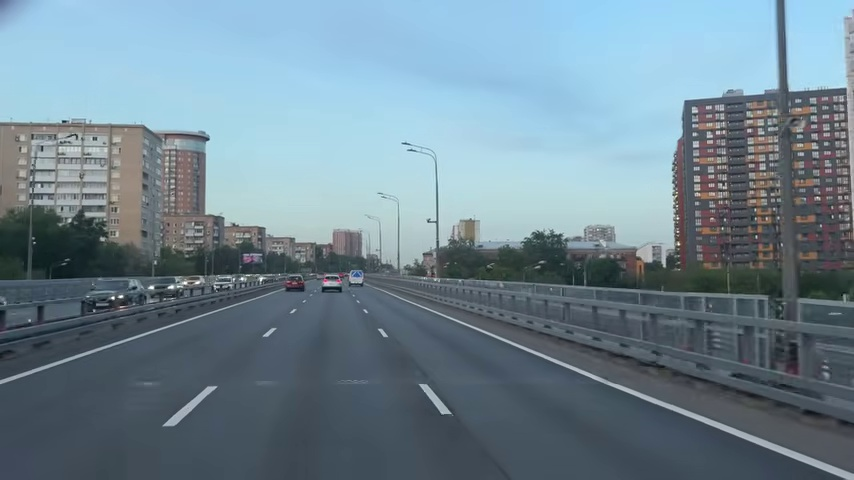apagada: (399, 139, 418, 157)
